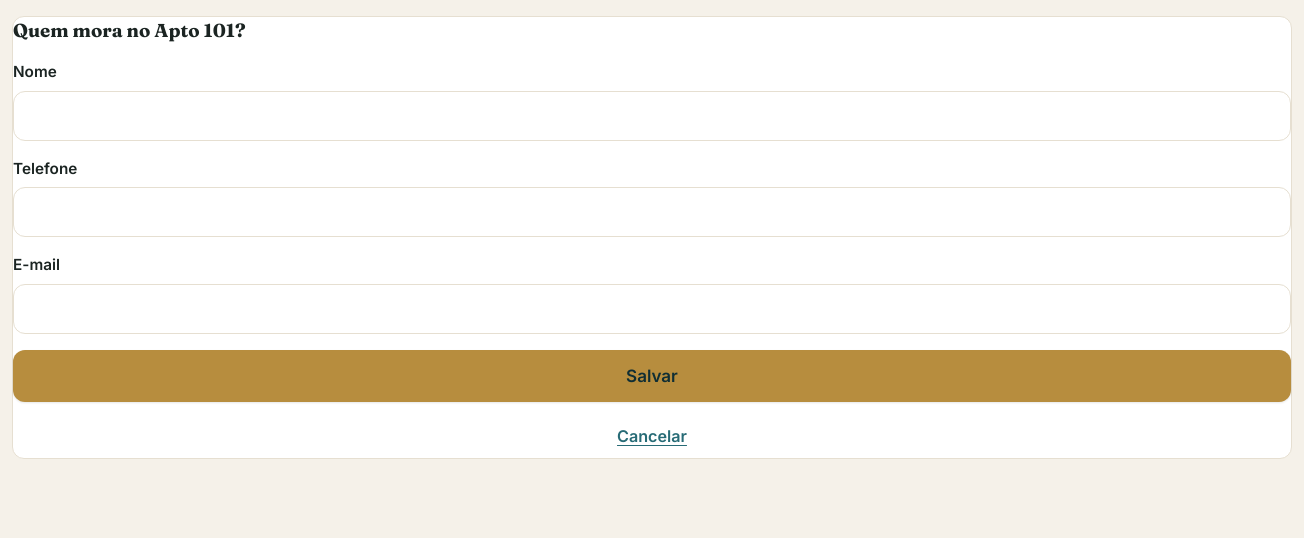
Scenario: ResidentSheet › shows an error when saving fails
Type "Ana" into the field labelled "Nome".
click(652, 116); type("Ana")  # box [13,91,1291,141]
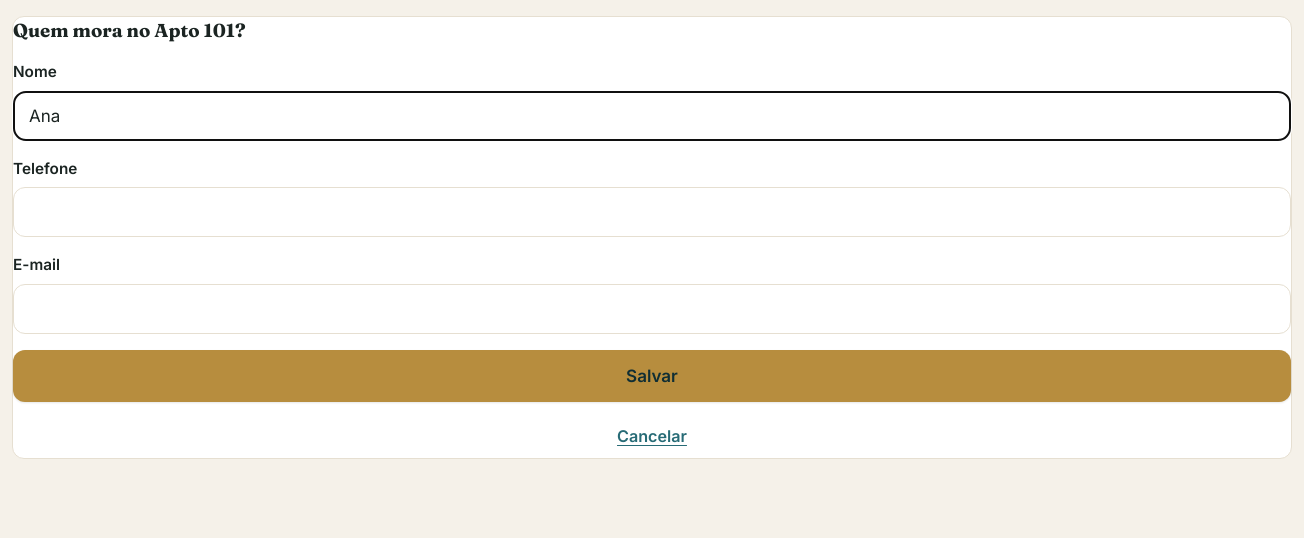
Click the button "Salvar".
click(652, 376)  # box [13,350,1291,402]
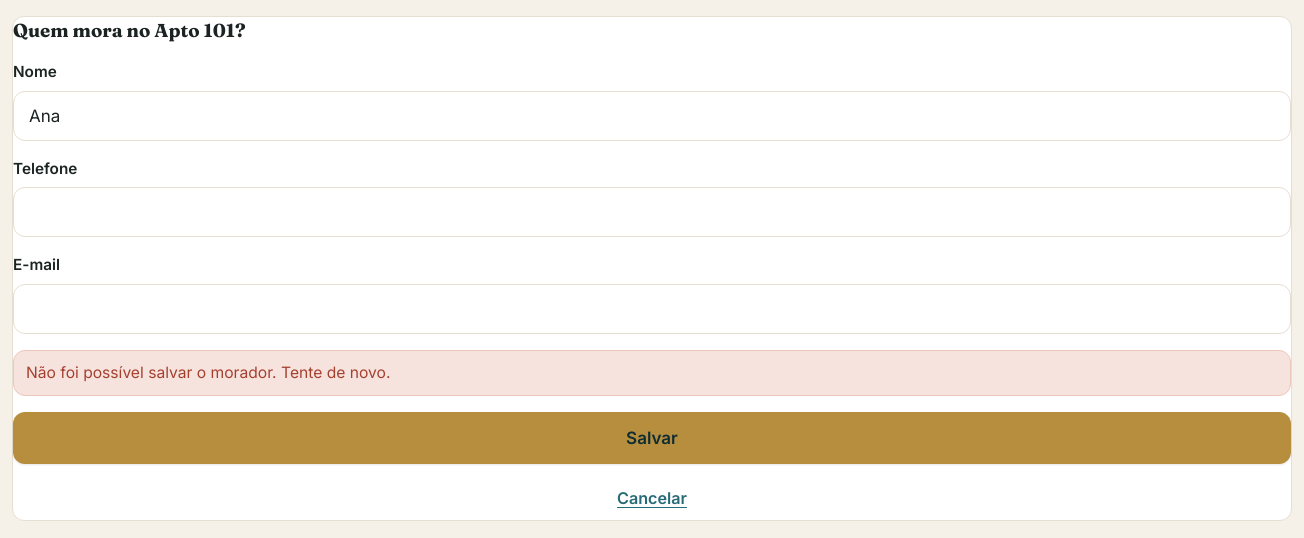
Expected: the message reads "Não foi possível salvar o morador. Tente de novo.", [26,363,390,382]
